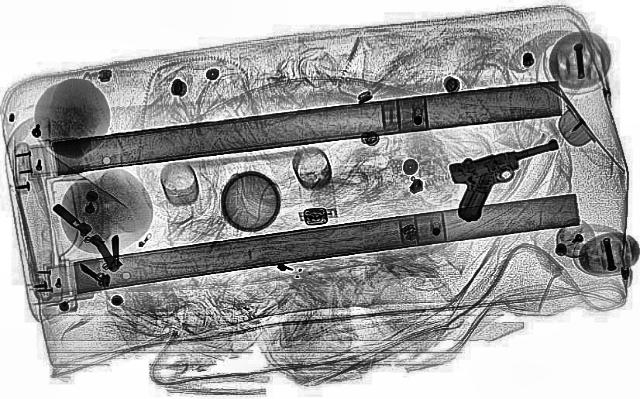Gun: (420, 137, 594, 223)
